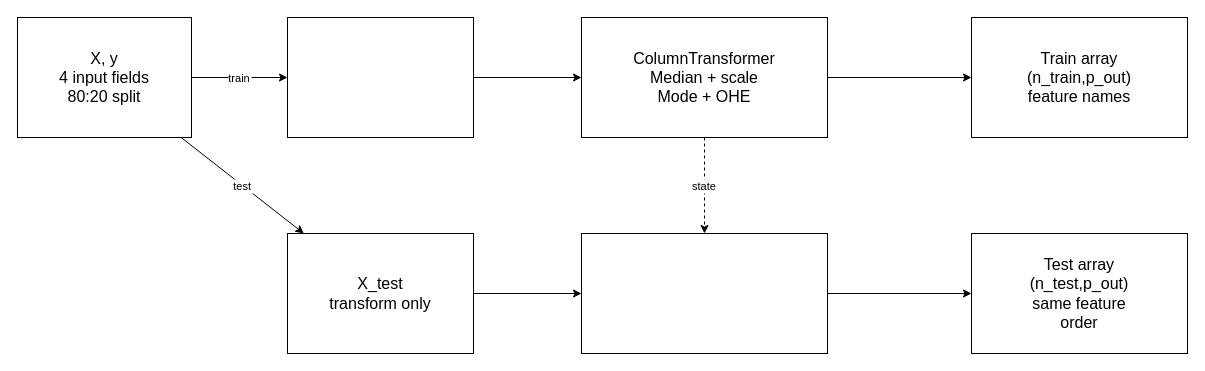
The diagram is 1205 pixels wide and 371 high, and some of its shapes have lost their labels. The centre of each missing label's shape, as x and y in pixels:
Reuse fitted medians, modes, scales, categories: [704,293]
X_train fit_transform: [380,77]
